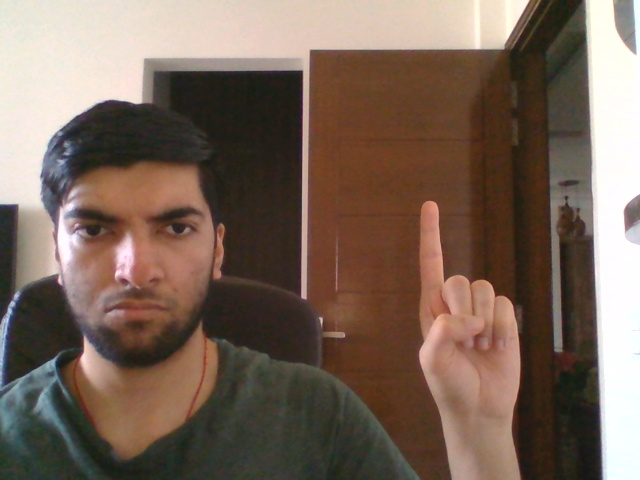LetterD: (417, 200, 522, 422)
